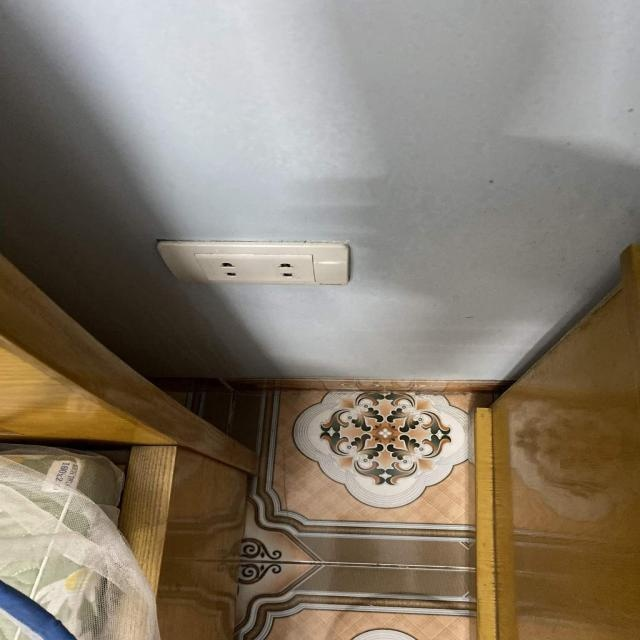outlet: (156, 239, 350, 286)
